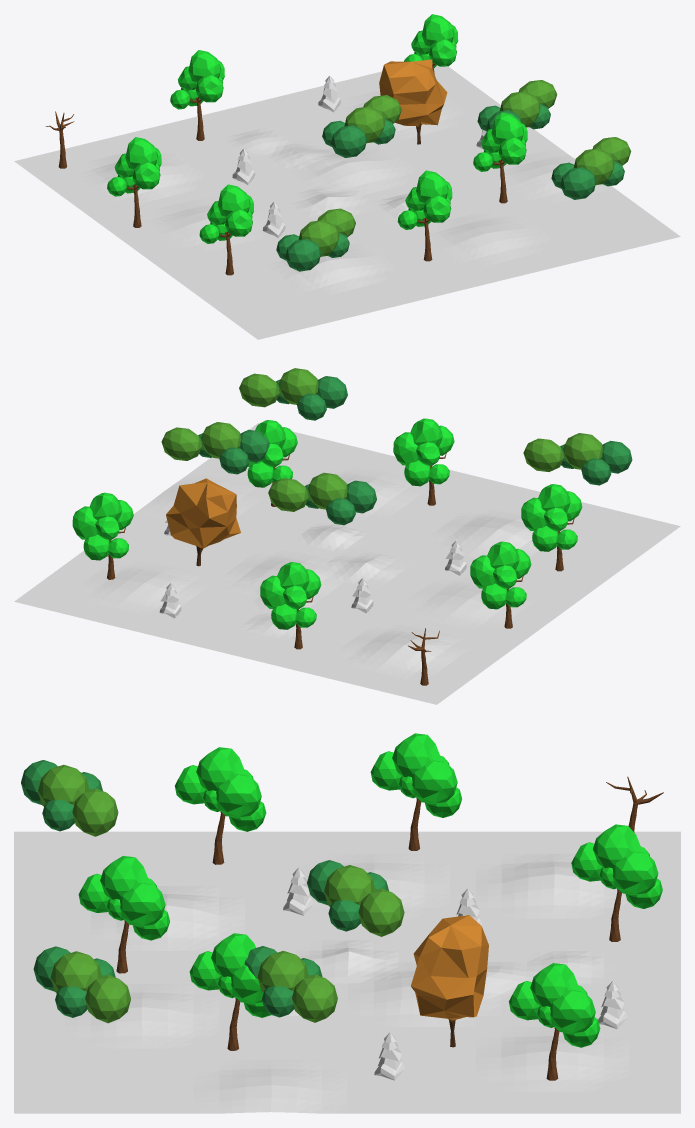
File: slopes_map_center_v2.dae
3 renders of one model, top to bottom at view 1: azimuth 30°, elevation 25°; view 2: azimuth 150°, elevation 25°; view 3: azimuth 270°, elevation 25°, orthographic. The views are drawn at different scales.
Visible parts, largest first — view 1: Plane, Tree_PROXY, Icosphere.005, Icosphere.003, Icosphere.002, Icosphere.001, Icosphere.010, Icosphere.004, Icosphere.006, Icosphere.016, Icosphere.011, Icosphere.008 (+7 smaller); view 2: Plane, Tree_PROXY, Icosphere.005, Icosphere.004, Icosphere.001, Icosphere.010, Icosphere.003, Icosphere.002, Icosphere.014, Icosphere.024, Icosphere.019, Icosphere.009 (+12 smaller); view 3: Plane, Tree_PROXY, Icosphere.005, Icosphere.010, Icosphere.003, Icosphere.004, Icosphere.001, Icosphere.002, Icosphere.019, Icosphere.024, Icosphere.014, Icosphere.009 (+11 smaller).
Boxes of the visible parts, x1,y1,x2,y2 form: Plane: (14,65,680,339); Tree_PROXY: (379,59,447,144); Icosphere.005: (107,137,161,196); Icosphere.003: (170,50,224,109); Icosphere.002: (473,112,527,171); Icosphere.001: (397,170,452,229); Icosphere.010: (199,184,253,243); Icosphere.004: (404,14,458,67); Icosphere.006: (298,220,339,256); Icosphere.016: (344,106,385,143); Icosphere.011: (573,148,614,184); Icosphere.008: (285,238,321,271); Plane: (14,423,680,704); Tree_PROXY: (166,478,240,566); Icosphere.005: (470,541,531,609); Icosphere.004: (72,492,133,560); Icosphere.001: (393,418,454,486); Icosphere.010: (521,484,582,551); Icosphere.003: (260,562,321,629); Icosphere.002: (247,420,297,487); Icosphere.014: (239,373,279,407); Icosphere.024: (161,427,202,460); Icosphere.019: (268,478,308,511); Icosphere.009: (523,438,564,471); Plane: (14,831,680,1113); Tree_PROXY: (411,915,488,1047); Icosphere.005: (370,733,461,817); Icosphere.010: (175,747,266,831); Icosphere.003: (571,824,662,908); Icosphere.004: (508,963,600,1047); Icosphere.001: (78,856,169,940); Icosphere.002: (189,933,271,1017); Icosphere.019: (358,888,404,936); Icosphere.024: (292,974,337,1022); Icosphere.014: (85,974,130,1023); Icosphere.009: (72,788,118,836).
Bounding box in the file's own units: 50 × 50 × 9.84.
